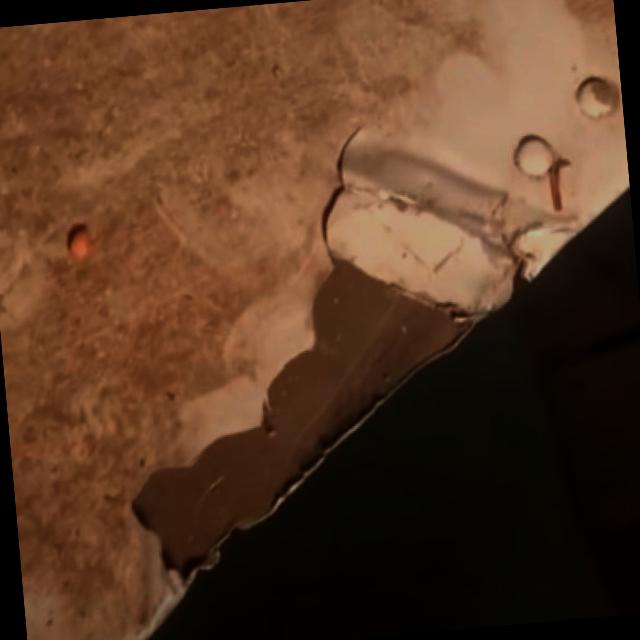crack: (306, 108, 383, 252)
